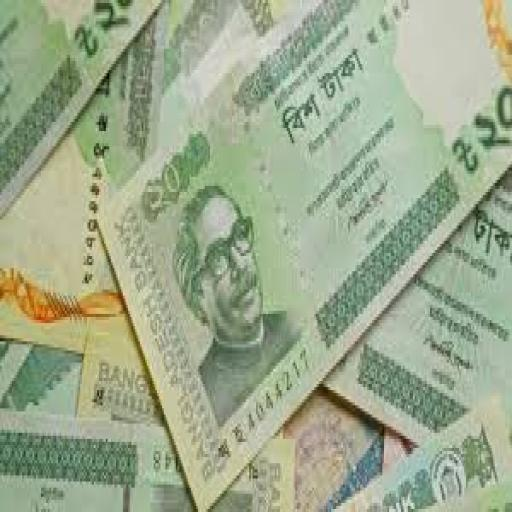20taka: (99, 0, 510, 506)
